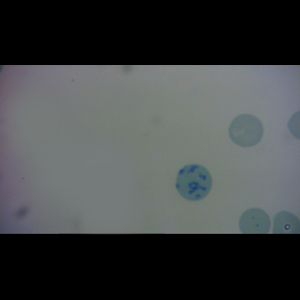aggregate reticulocyte: (174, 162, 212, 203)
erythrocyte: (228, 113, 264, 149)
punctate reticulocyte: (238, 207, 271, 234)
